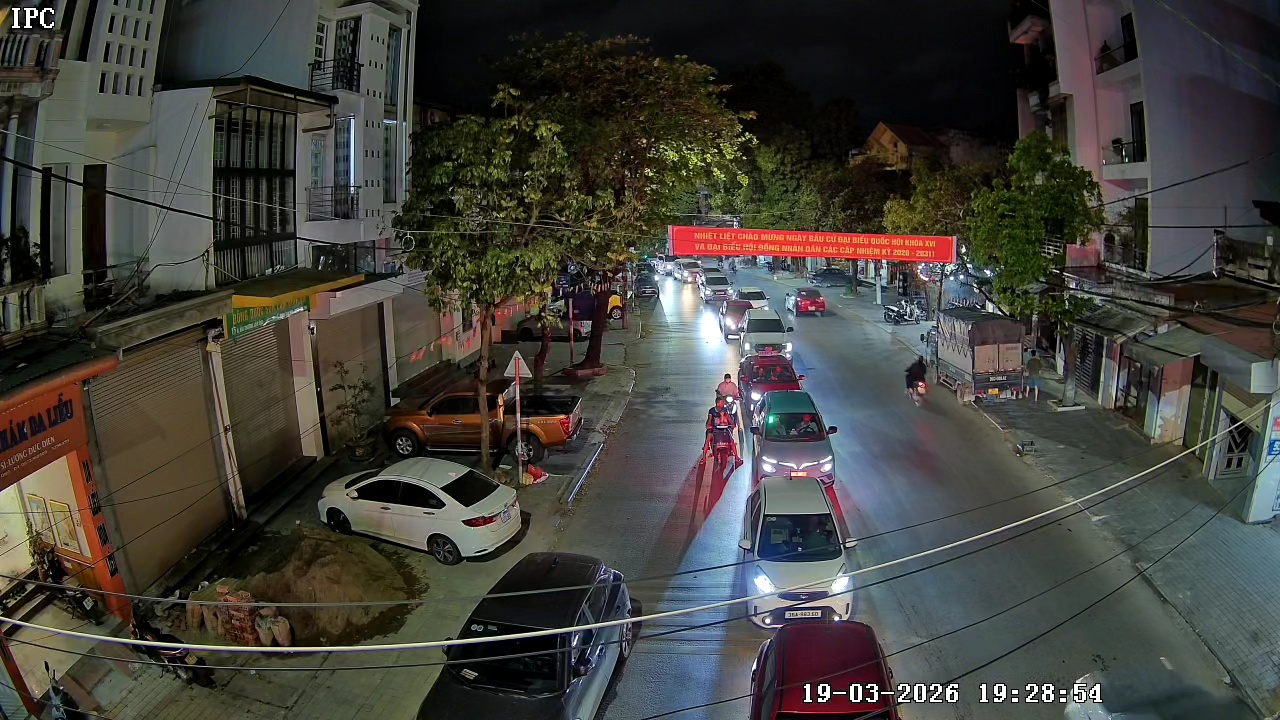car: (414, 549, 643, 719), (317, 455, 532, 561), (739, 475, 858, 625), (750, 386, 838, 485), (738, 350, 806, 427), (740, 307, 796, 367), (728, 279, 771, 313), (788, 284, 828, 319)
motorbike: (703, 395, 744, 483), (713, 370, 742, 432)
